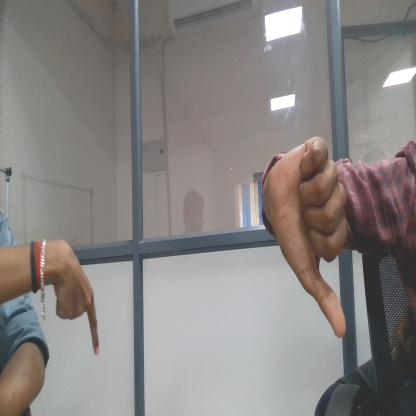Down: (52, 234, 104, 359)
Thumbs Down: (282, 136, 351, 341)
